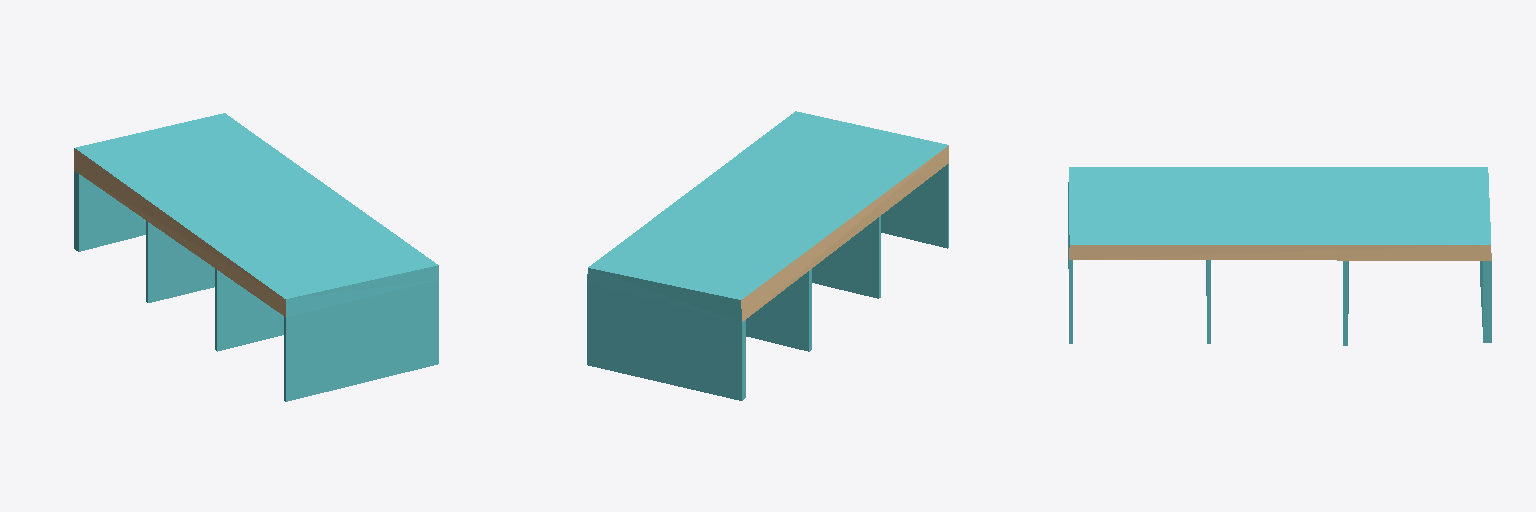
File: washing.obj
3 renders of one model, left to right at view 1: azimuth 30°, elevation 25°; view 2: azimuth 150°, elevation 25°; view 3: azimuth 270°, elevation 25°, orthographic.
Parts seen in each view (by area): view 1: Mesh3_skp149C1_Component_4_1_skp4048_1_Component_3_1_Compon.000; view 2: Mesh3_skp149C1_Component_4_1_skp4048_1_Component_3_1_Compon.000; view 3: Mesh3_skp149C1_Component_4_1_skp4048_1_Component_3_1_Compon.000.
Boxes of the visible parts, x1,y1,x2,y2 form: Mesh3_skp149C1_Component_4_1_skp4048_1_Component_3_1_Compon.000: [74, 113, 438, 401]; Mesh3_skp149C1_Component_4_1_skp4048_1_Component_3_1_Compon.000: [587, 111, 948, 400]; Mesh3_skp149C1_Component_4_1_skp4048_1_Component_3_1_Compon.000: [1068, 167, 1491, 345].
Bounding box in the file's own units: 6.34 × 4.07 × 14.94.